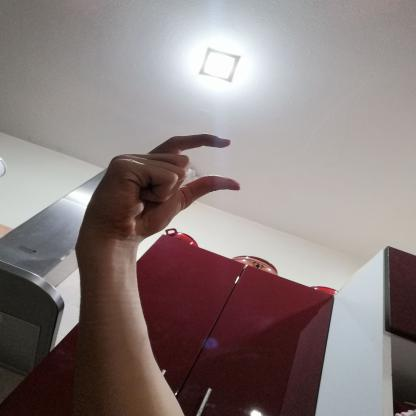DELL: (67, 124, 249, 256)
